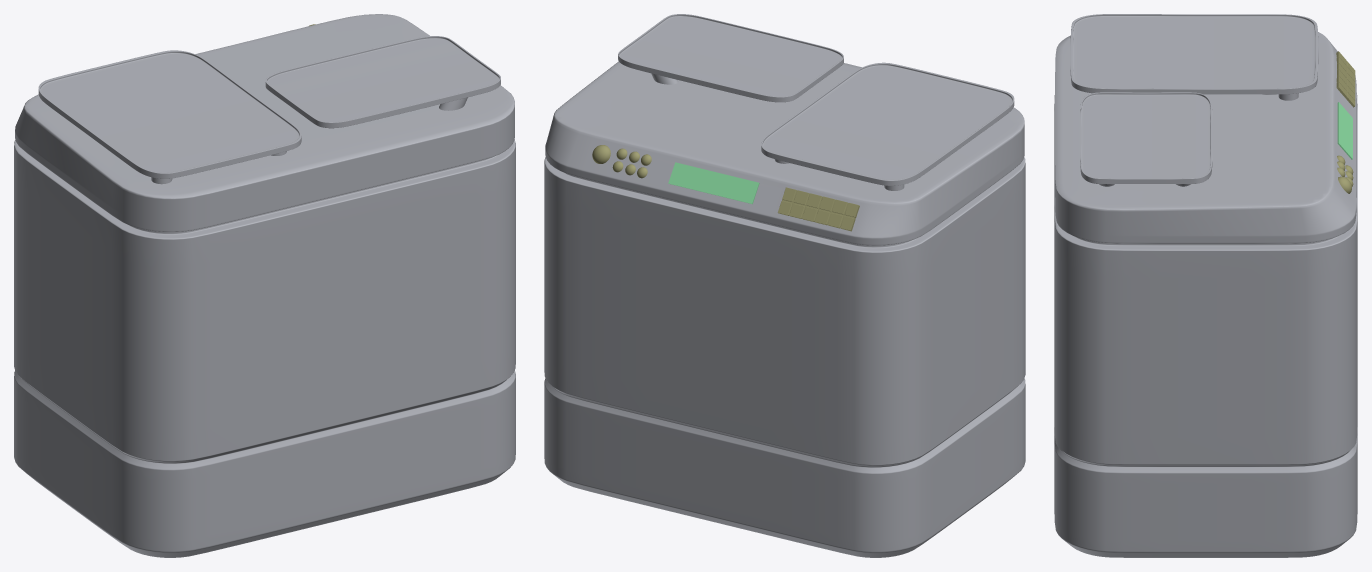
File: Impresora.fbx
3 views of the same model, side by side, from view 1: azimuth 30°, elevation 25°; view 2: azimuth 150°, elevation 25°; view 3: azimuth 270°, elevation 25° (orthographic). The views are drawn at different scales.
Parts seen in each view (by area): view 1: CuerpoImpresora_high, Bandeja2_high, Bandeja1_high; view 2: CuerpoImpresora_high, Bandeja2_high, Bandeja1_high, Botones_high, Pantalla1; view 3: CuerpoImpresora_high, Bandeja2_high, Bandeja1_high, Botones_high, Pantalla1.
Part boxes in pixels (x1,y1,x2,y2): CuerpoImpresora_high: [14, 14, 515, 557]; Bandeja2_high: [38, 50, 301, 178]; Bandeja1_high: [265, 36, 500, 128]; CuerpoImpresora_high: [544, 61, 1025, 557]; Bandeja2_high: [761, 62, 1014, 185]; Bandeja1_high: [618, 14, 843, 102]; Botones_high: [778, 187, 859, 231]; Pantalla1: [668, 162, 759, 204]; CuerpoImpresora_high: [1054, 32, 1357, 557]; Bandeja2_high: [1070, 14, 1318, 94]; Bandeja1_high: [1080, 92, 1212, 184]; Botones_high: [1336, 51, 1355, 107]; Pantalla1: [1337, 102, 1352, 159].
Size of the model in its own units: 2.84 by 2.7 by 1.97.
